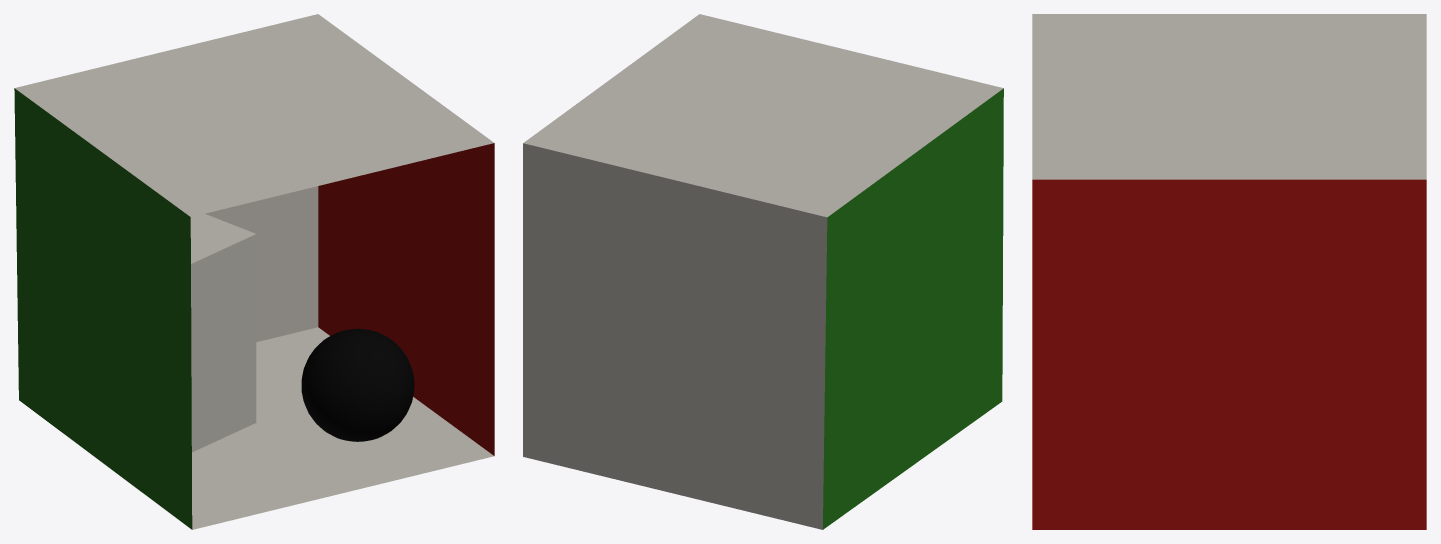
Rendered from cornell_box_iow.obj.
3 views of the same model, side by side, from view 1: azimuth 30°, elevation 25°; view 2: azimuth 150°, elevation 25°; view 3: azimuth 270°, elevation 25° (orthographic). The views are drawn at different scales.
Parts seen in each view (by area): view 1: cornell_box_mirror.004, cornell_box_mirror.001, cornell_box_mirror.003, cornell_box_mirror, cornell_box_mirror.014, cornell_box_iow.001, cornell_box_mirror.002, cornell_box_mirror.010; view 2: cornell_box_mirror.002, cornell_box_mirror.004, cornell_box_mirror.001; view 3: cornell_box_mirror.003, cornell_box_mirror.001.
Part boxes in pixels (bbox=[...]): cornell_box_mirror.004: bbox=[14, 88, 192, 529]; cornell_box_mirror.001: bbox=[15, 14, 493, 216]; cornell_box_mirror.003: bbox=[318, 143, 494, 455]; cornell_box_mirror: bbox=[192, 327, 493, 529]; cornell_box_mirror.014: bbox=[191, 234, 256, 452]; cornell_box_iow.001: bbox=[301, 328, 414, 441]; cornell_box_mirror.002: bbox=[205, 186, 318, 342]; cornell_box_mirror.010: bbox=[190, 213, 255, 263]; cornell_box_mirror.002: bbox=[523, 143, 827, 529]; cornell_box_mirror.004: bbox=[823, 88, 1003, 529]; cornell_box_mirror.001: bbox=[523, 14, 1003, 217]; cornell_box_mirror.003: bbox=[1032, 179, 1426, 529]; cornell_box_mirror.001: bbox=[1032, 14, 1426, 179].
Bounding box in the file's own units: 2.02 × 1.99 × 2.03.
